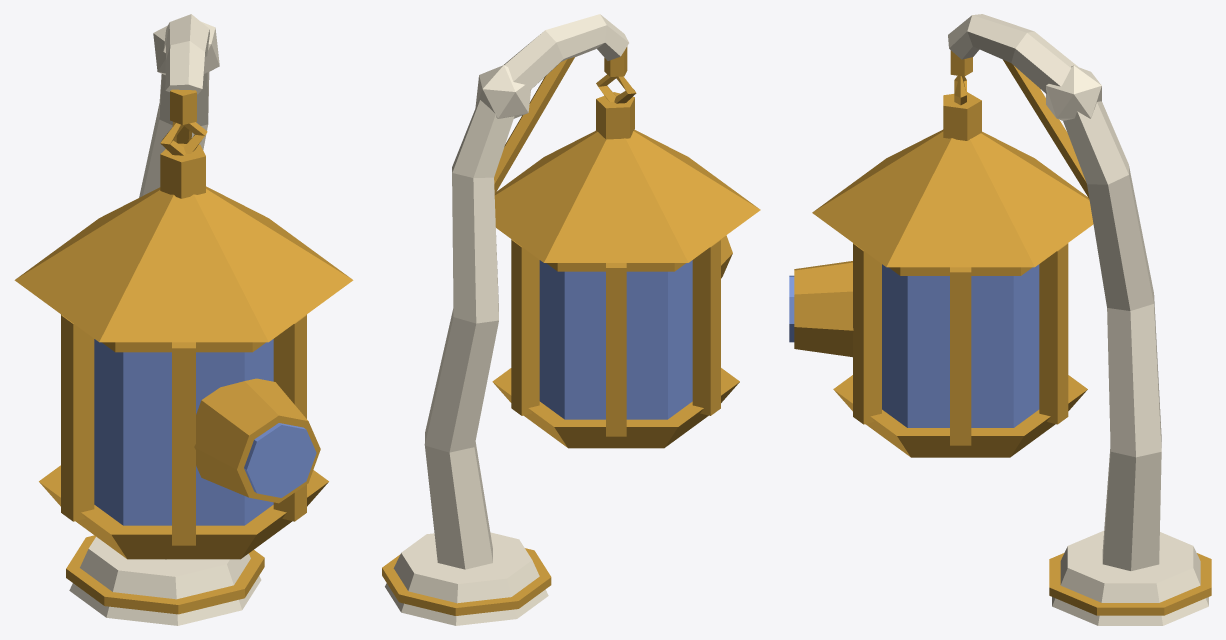
Rendered from keeper.glb.
The picture shows the model from 3 angles, left to right: view 1: azimuth 30°, elevation 25°; view 2: azimuth 150°, elevation 25°; view 3: azimuth 270°, elevation 25°; orthographic projection. The views are drawn at different scales.
Visible parts, largest first — view 1: keeper_head, keeper_base; view 2: keeper_head, keeper_base; view 3: keeper_head, keeper_base.
Boxes of the visible parts, left/top/right/bottom form: keeper_head: left=14, top=122, right=353, bottom=559; keeper_base: left=66, top=14, right=264, bottom=625; keeper_head: left=492, top=74, right=760, bottom=448; keeper_base: left=382, top=14, right=628, bottom=625; keeper_head: left=789, top=75, right=1093, bottom=457; keeper_base: left=948, top=14, right=1211, bottom=625.
Size of the model in its own units: 0.5105 by 1.07 by 0.7457.
